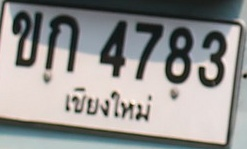txt01: (43, 13, 81, 74)
txt02: (10, 10, 44, 69)
